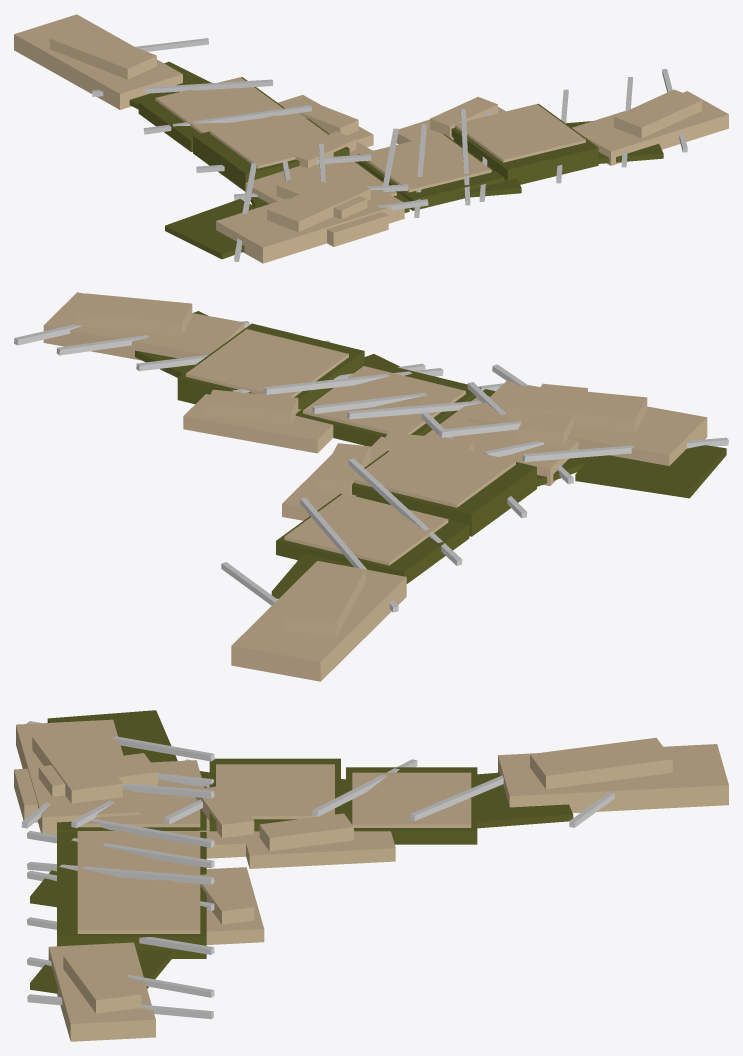
Rendered from SM_HescoEsquina_v1_Geotextil_e3_Brecha_LOD0.fbx.
The picture shows the model from 3 angles, top to bottom: view 1: azimuth 30°, elevation 25°; view 2: azimuth 150°, elevation 25°; view 3: azimuth 270°, elevation 25°; orthographic projection. The views are drawn at different scales.
Visible parts, largest first — view 1: SM_hesco_piezas_v7_LOD0; view 2: SM_hesco_piezas_v7_LOD0; view 3: SM_hesco_piezas_v7_LOD0.
Part boxes in pixels (<box>): SM_hesco_piezas_v7_LOD0: <box>14,14,728,263</box>; SM_hesco_piezas_v7_LOD0: <box>14,292,728,681</box>; SM_hesco_piezas_v7_LOD0: <box>14,710,728,1041</box>.
Size of the model in its own units: 6.23 by 0.3263 by 5.83.
